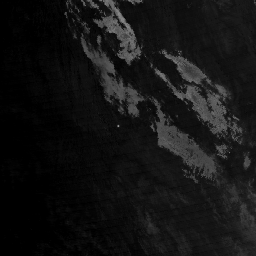Target: (115, 124, 121, 129)
